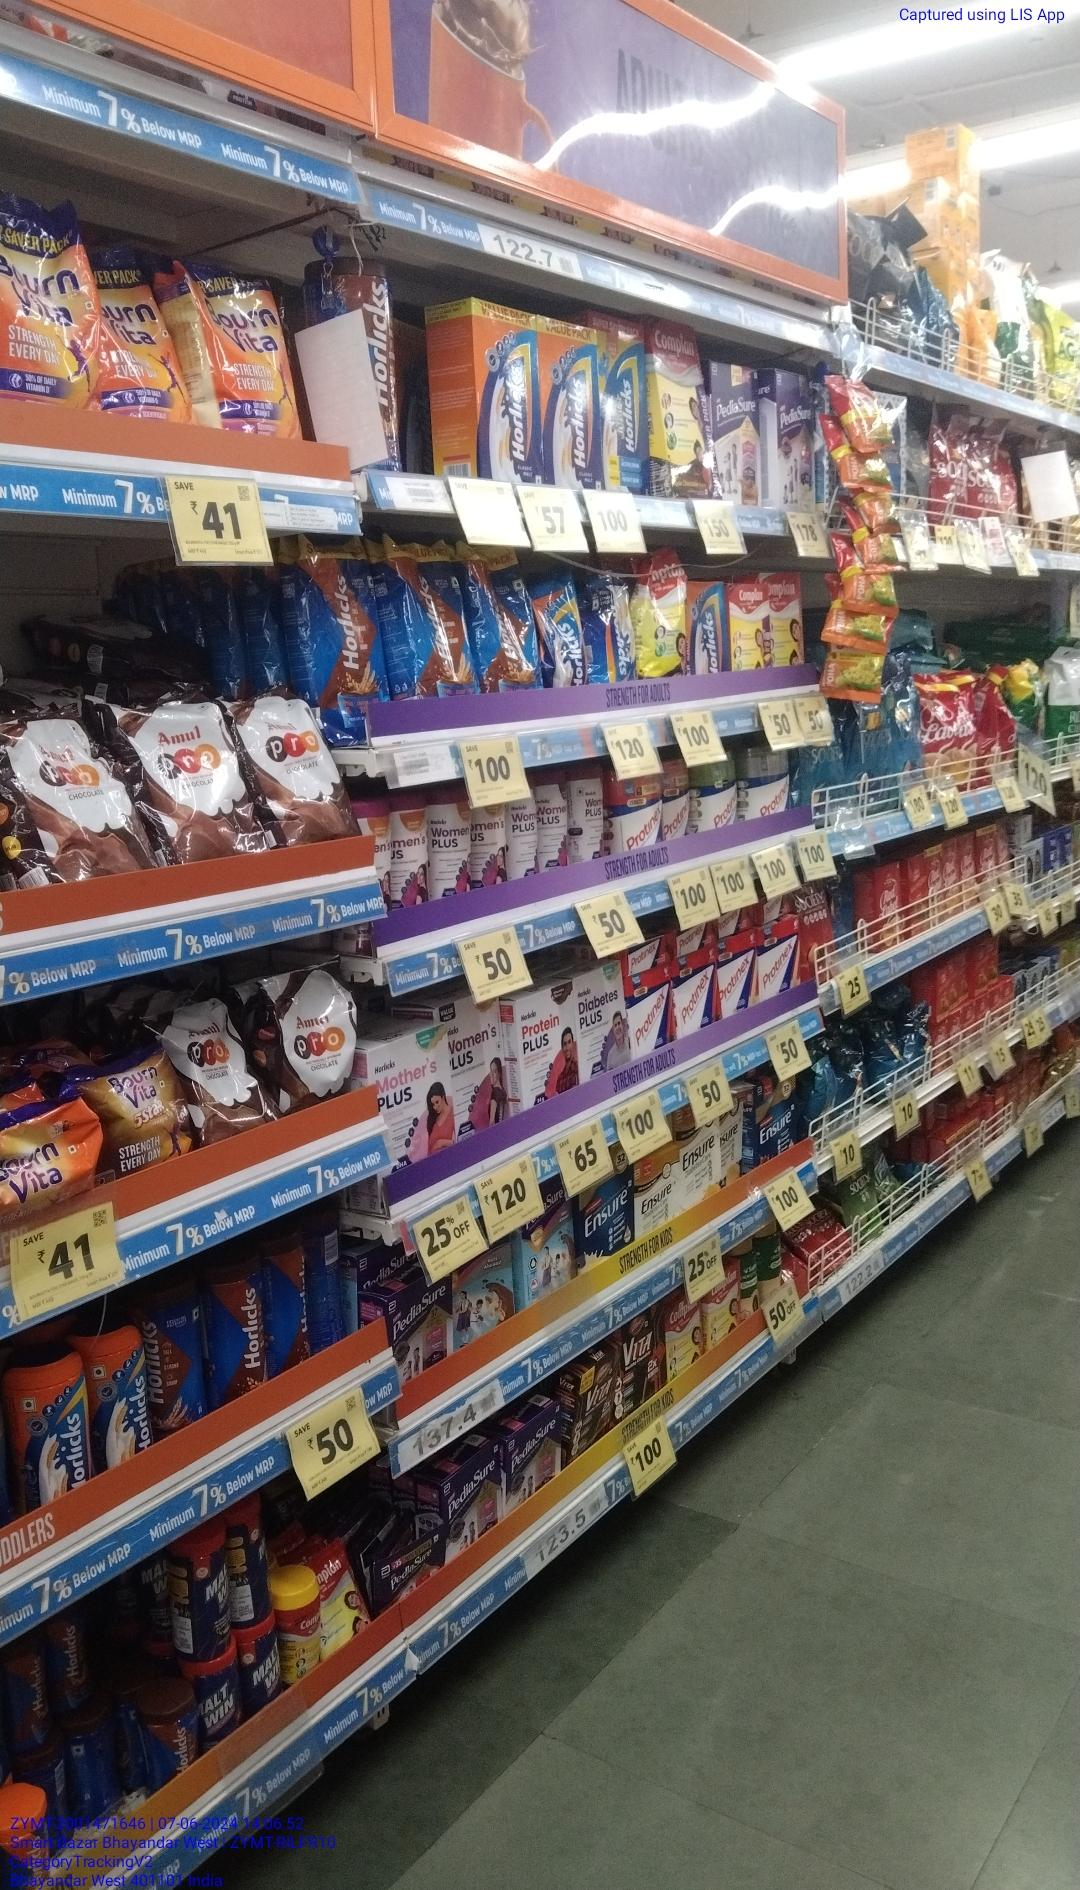BOURN_VITA_FIVE_STAR_MAGIC_500_G_POUCH: (112, 1053, 173, 1177)
HORLICK_CLASSIC_MALT_500_G_JAR: (10, 1358, 87, 1502), (101, 1323, 148, 1462)
PEDIASURE_CHOCOLATE_500_G_PACK: (711, 362, 767, 504), (772, 371, 819, 511), (388, 1290, 454, 1379)
PROTINEX_ORIGINAL_400_G_JAR: (740, 750, 791, 816)
